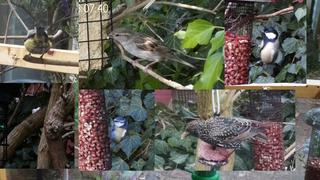blue tit: (24, 27, 52, 64), (105, 116, 128, 150)
great tit: (245, 27, 280, 70)
sparrow: (105, 27, 198, 77)
starling: (181, 116, 269, 150)
